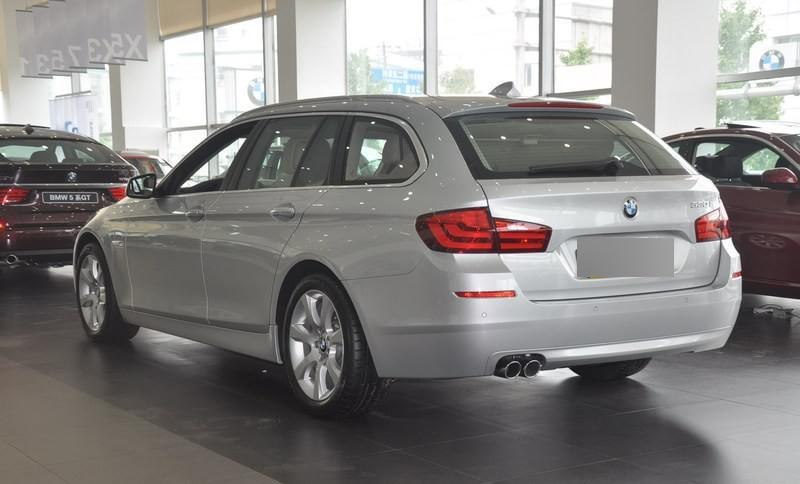Wagon: (72, 78, 744, 421)
